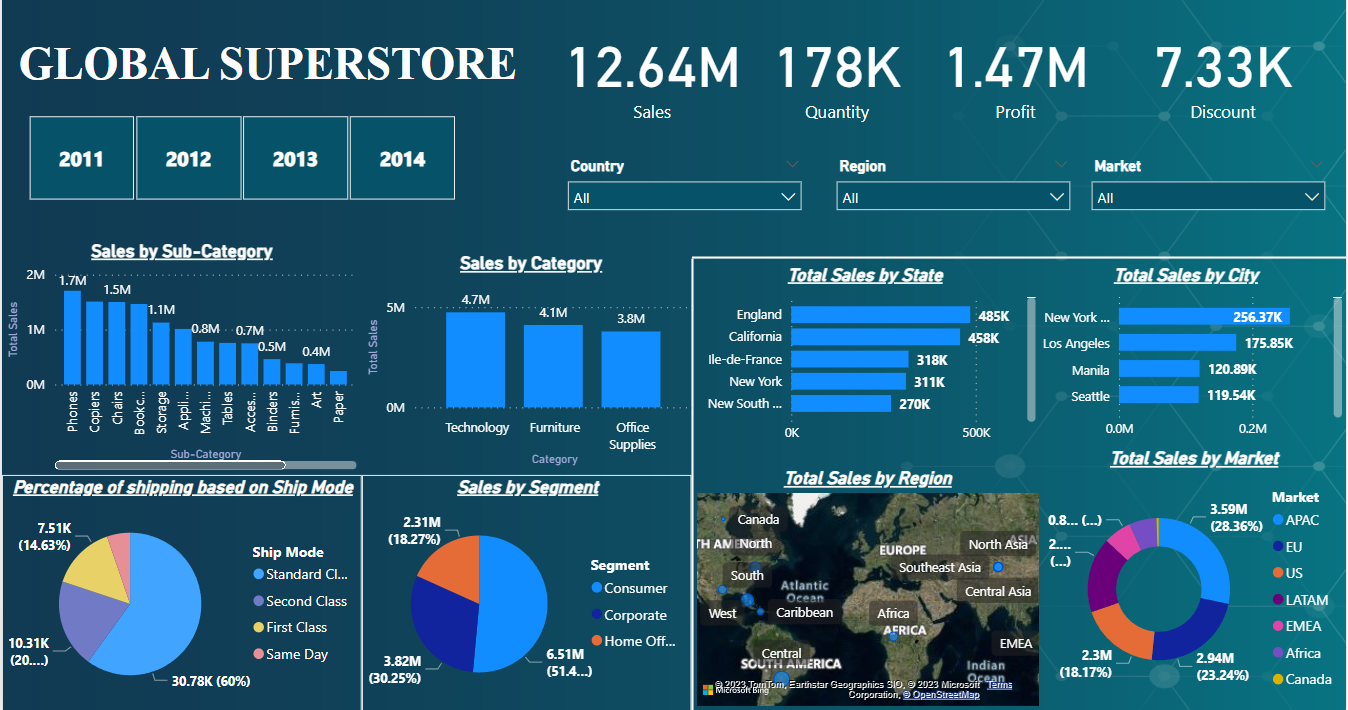

The page's visual inventory and layout, read from the dashboard file:
{"tool":"powerbi","page":{"name":"Page 1","canvas":[1280,720],"ordinal":0},"visuals":[{"type":"card","fields":{"Values":["Orders.Total Sales"]},"box":[510,54.8,216.6,111.1],"z":0},{"type":"card","fields":{"Values":["Orders.Total Quantity"]},"box":[710.2,54.8,168.6,111.1],"z":1000},{"type":"textbox","box":[11,74,499.1,72.7],"z":2000},{"type":"card","fields":{"Values":["Orders.Total Profit"]},"box":[858.3,54.8,213.9,111.1],"z":3000},{"type":"pieChart","title":"Percentage of shipping based on Ship Mode","fields":{"Category":["Orders.Ship Mode"],"Y":["CountNonNull(Orders.Ship Mode)"]},"box":[0,494.9,342.8,224.9],"z":4000},{"type":"map","fields":{"Size":["Orders.Total Sales"],"Category":["Orders.Region"]},"box":[656.7,488.1,334.5,231.7],"z":5000},{"type":"donutChart","fields":{"Y":["Orders.Total Sales"],"Category":["Orders.Market"]},"box":[988.5,468.9,292,250.9],"z":6000},{"type":"barChart","fields":{"Category":["Orders.State"],"Y":["Orders.Total Sales"]},"box":[654,293.4,334.5,179.6],"z":7000},{"type":"barChart","fields":{"Category":["Orders.City"],"Y":["Orders.Total Sales"]},"box":[973.4,293.4,307.1,175.5],"z":8000},{"type":"shape","box":[656.7,283.8,623.8,9.6],"z":9000},{"type":"shape","box":[649.9,289.3,15.1,430.5],"z":10000},{"type":"slicer","fields":{"Values":["Orders.Country"]},"box":[527.9,186.5,242.7,72.7],"z":11000},{"type":"slicer","fields":{"Values":["Orders.Region"]},"box":[784.2,186.5,242.7,72.7],"z":12000},{"type":"slicer","fields":{"Values":["Orders.Market"]},"box":[1026.9,186.5,242.7,72.7],"z":13000},{"type":"slicer","fields":{"Values":["Orders.Year"]},"box":[0,146.7,455.2,93.2],"z":14000},{"type":"pieChart","title":"Sales by Segment","fields":{"Category":["Orders.Segment"],"Y":["Orders.Total Sales"]},"box":[342.8,494.9,314,224.9],"z":15000},{"type":"columnChart","title":"Sales by Category","fields":{"Category":["Orders.Category"],"Y":["Orders.Total Sales"]},"box":[342.8,283.8,322.2,208.4],"z":16000},{"type":"columnChart","title":"Sales by Sub-Category","fields":{"Y":["Orders.Total Sales"],"Category":["Orders.Sub-Category"]},"box":[0,271.5,342.8,223.5],"z":17000},{"type":"card","fields":{"Values":["Orders.Total Discount"]},"box":[1055.7,54.8,213.9,111.1],"z":18000}]}

Visuals, with their boxes on the page's 1280x720 design canvas (x1, y1, x2, y2). These are canvas units, not pixel positions in the 1348x710 screenshot, which may show the page scaled, cropped or inside an application window:
card - Orders.Total Sales: select_region(510, 55, 727, 166)
card - Orders.Total Quantity: select_region(710, 55, 879, 166)
textbox: select_region(11, 74, 510, 147)
card - Orders.Total Profit: select_region(858, 55, 1072, 166)
"Percentage of shipping based on Ship Mode" pieChart: select_region(0, 495, 343, 720)
map - Orders.Total Sales x Orders.Region: select_region(657, 488, 991, 720)
donutChart - Orders.Total Sales x Orders.Market: select_region(988, 469, 1280, 720)
barChart - Orders.State x Orders.Total Sales: select_region(654, 293, 988, 473)
barChart - Orders.City x Orders.Total Sales: select_region(973, 293, 1280, 469)
shape: select_region(657, 284, 1280, 293)
shape: select_region(650, 289, 665, 720)
slicer - Orders.Country: select_region(528, 186, 771, 259)
slicer - Orders.Region: select_region(784, 186, 1027, 259)
slicer - Orders.Market: select_region(1027, 186, 1270, 259)
slicer - Orders.Year: select_region(0, 147, 455, 240)
"Sales by Segment" pieChart: select_region(343, 495, 657, 720)
"Sales by Category" columnChart: select_region(343, 284, 665, 492)
"Sales by Sub-Category" columnChart: select_region(0, 272, 343, 495)
card - Orders.Total Discount: select_region(1056, 55, 1270, 166)
